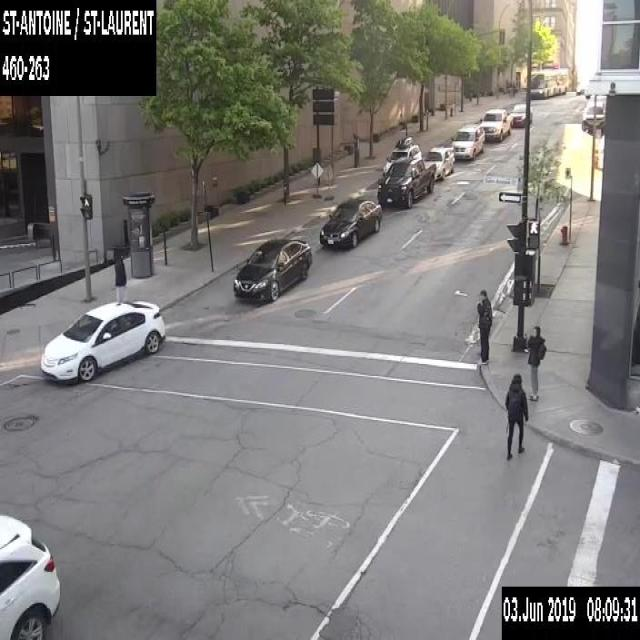bus: (529, 66, 567, 98)
construction: (311, 160, 322, 198), (323, 164, 334, 200)
pedestrian: (505, 373, 527, 459), (526, 326, 546, 402), (475, 289, 491, 363), (113, 249, 126, 300)
vehicle: (39, 298, 166, 382), (0, 512, 61, 639), (232, 236, 312, 303), (319, 198, 381, 248), (377, 157, 435, 209), (382, 135, 421, 175), (450, 123, 484, 159), (422, 145, 454, 179), (479, 108, 512, 140), (581, 100, 604, 129), (509, 103, 531, 127), (576, 82, 589, 96)
